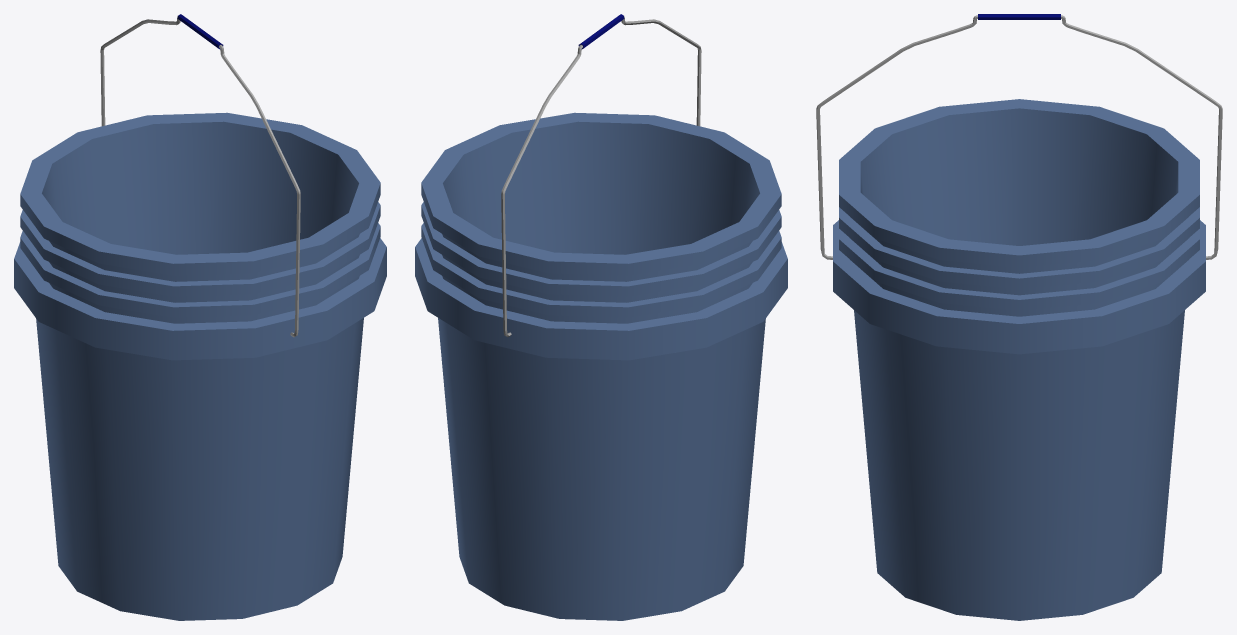
The model's file is Bucket.fbx.
3 renders of one model, left to right at view 1: azimuth 30°, elevation 25°; view 2: azimuth 150°, elevation 25°; view 3: azimuth 270°, elevation 25°, orthographic. The views are drawn at different scales.
Visible parts, largest first — view 1: Bucket, Handle; view 2: Bucket, Handle; view 3: Bucket, Handle.
Part boxes in pixels (x1,y1,x2,y2): Bucket: [14, 112, 386, 620]; Handle: [100, 14, 300, 337]; Bucket: [415, 112, 787, 620]; Handle: [501, 14, 701, 337]; Bucket: [833, 99, 1205, 620]; Handle: [816, 14, 1222, 259].
Bounding box in the file's own units: 49.85 × 78.37 × 52.97.
